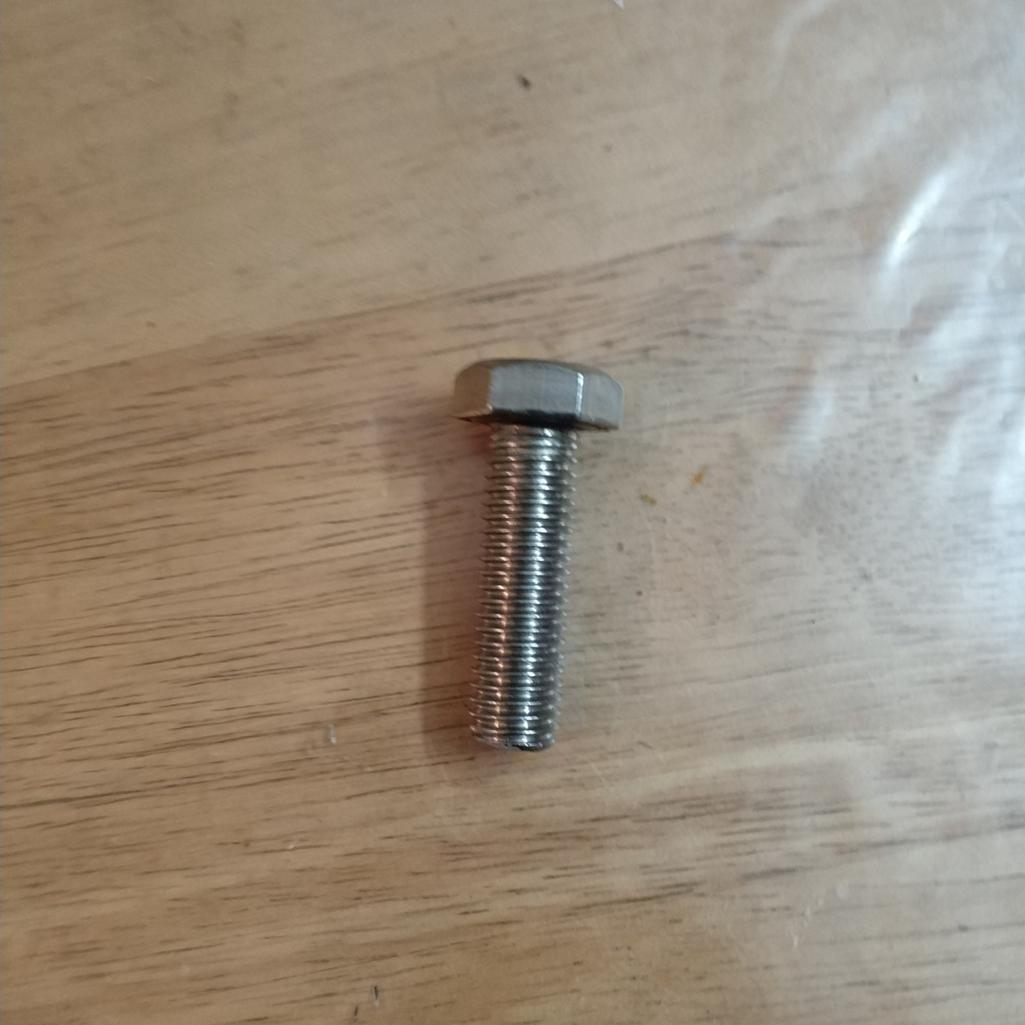screwtype2silver: (414, 325, 637, 761)
